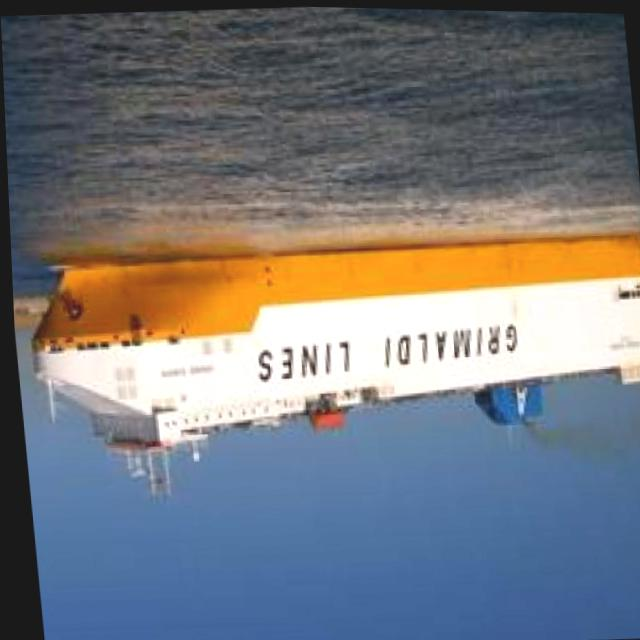ship2: (28, 232, 640, 494)
